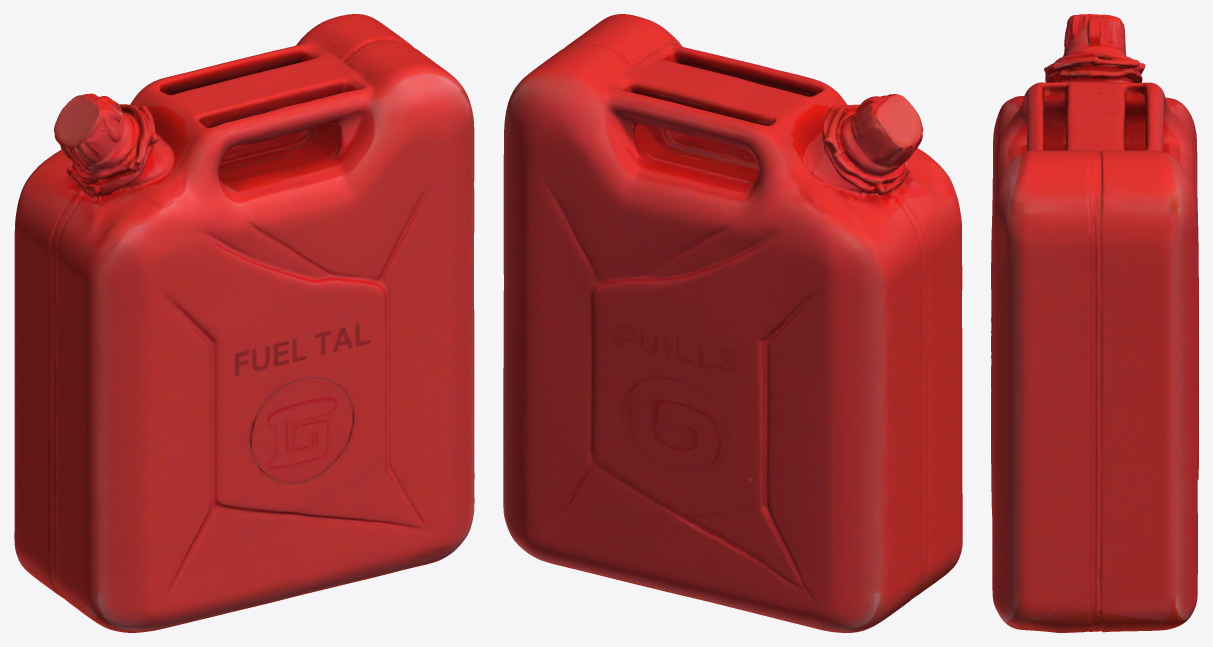
Rendered from YakıtBidon.fbx.
3 views of the same model, side by side, from view 1: azimuth 30°, elevation 25°; view 2: azimuth 150°, elevation 25°; view 3: azimuth 270°, elevation 25° (orthographic). The views are drawn at different scales.
Visible parts, largest first — view 1: Mesh_0; view 2: Mesh_0; view 3: Mesh_0.
Part boxes in pixels (<box>): Mesh_0: <box>14,14,474,632</box>; Mesh_0: <box>503,14,962,632</box>; Mesh_0: <box>991,14,1198,632</box>.
Size of the model in its own units: 159 by 200 by 79.11.
Materials: 1 (1 with a texture image).
